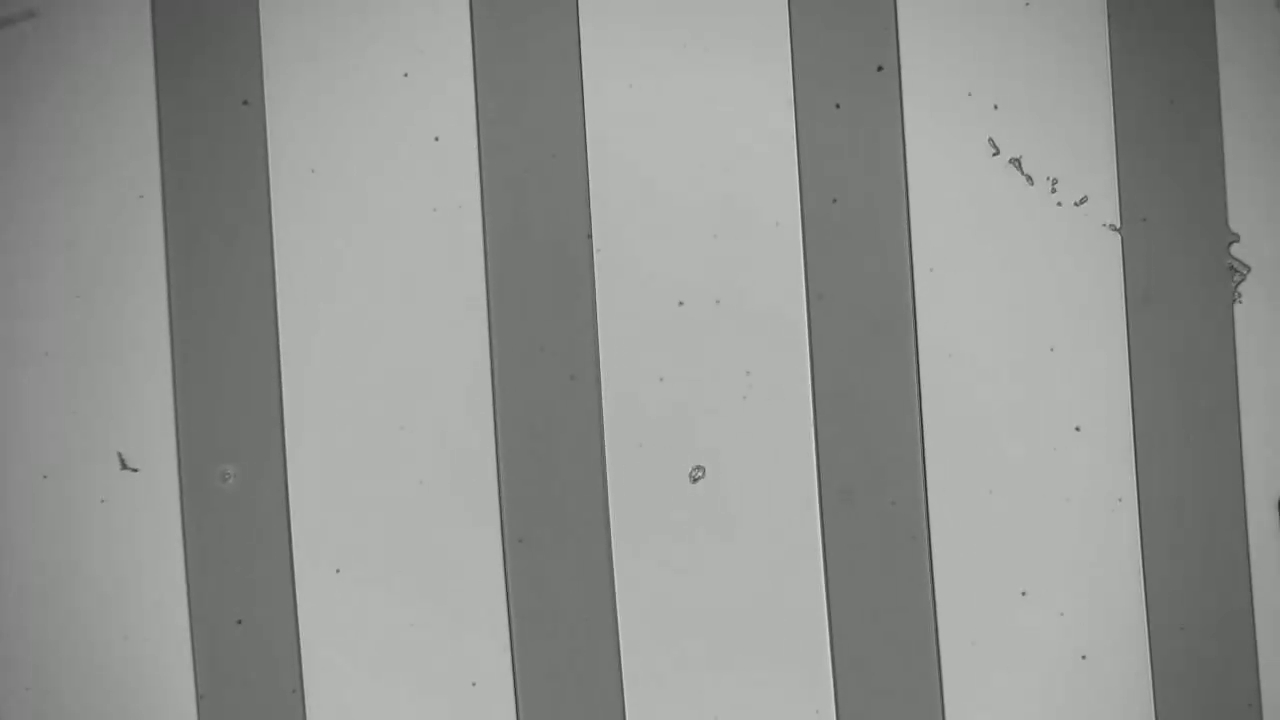edge_bite: (1203, 253, 1261, 302), (1214, 215, 1247, 253)
